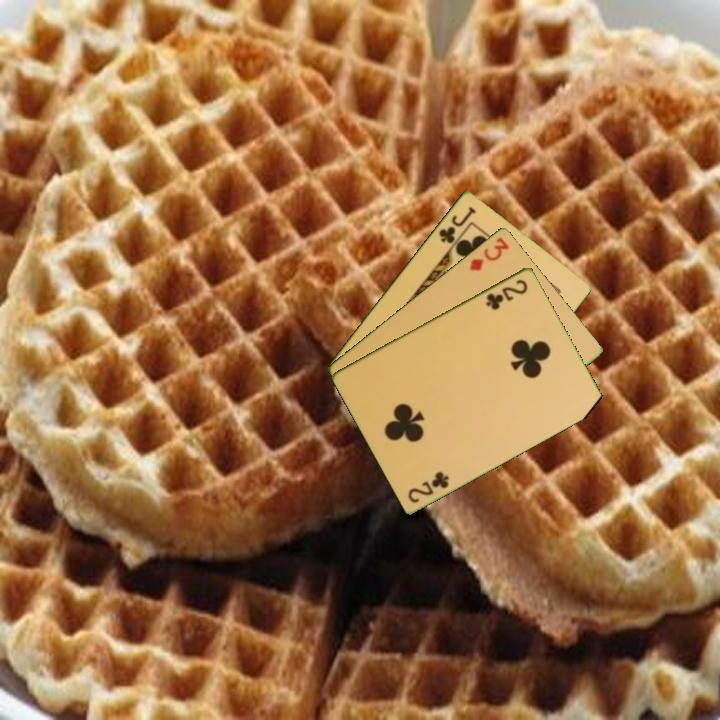2c: (482, 275, 531, 313), (404, 468, 452, 505)
3d: (466, 233, 512, 274)
Jc: (435, 202, 479, 246)
